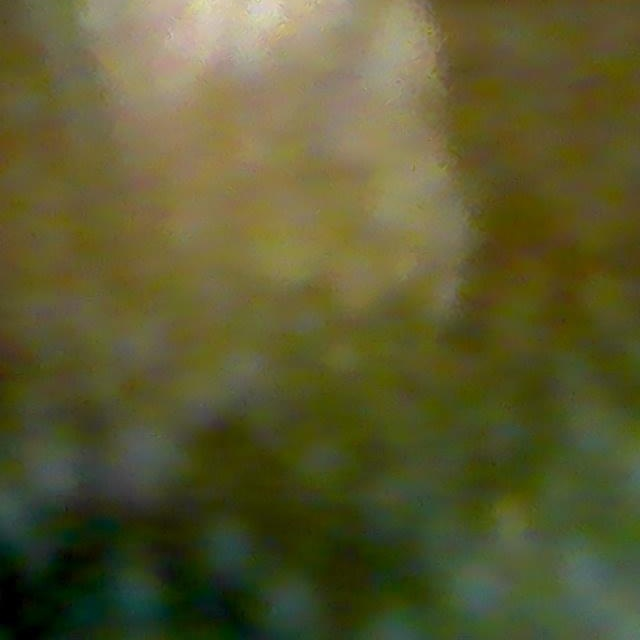SeaGrape: (545, 526, 630, 630), (435, 546, 517, 632), (193, 509, 265, 584), (254, 567, 328, 638), (107, 561, 170, 624), (349, 596, 437, 639)
